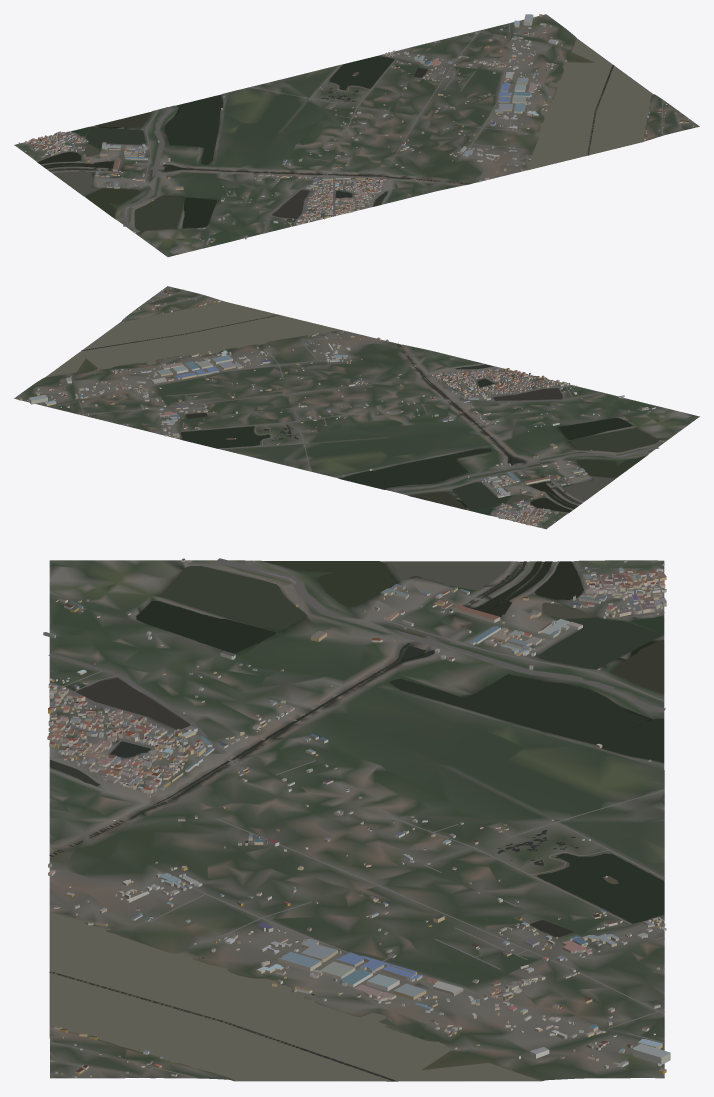
3 views of the same model, one above another, from view 1: azimuth 30°, elevation 25°; view 2: azimuth 150°, elevation 25°; view 3: azimuth 270°, elevation 25° (orthographic). The views are drawn at different scales.
Visible parts, largest first — view 1: ground, water, buildings, roads; view 2: ground, water, buildings, roads; view 3: ground, water, buildings, roads.
Boxes of the visible parts, left/top/right/bottom form: ground: left=14, top=14, right=699, bottom=256; water: left=37, top=38, right=652, bottom=230; buildings: left=18, top=14, right=693, bottom=245; roads: left=19, top=23, right=665, bottom=233; ground: left=14, top=286, right=699, bottom=529; water: left=46, top=301, right=658, bottom=515; buildings: left=18, top=287, right=666, bottom=527; roads: left=50, top=295, right=658, bottom=526; ground: left=49, top=560, right=664, bottom=1081; water: left=49, top=561, right=664, bottom=1081; buildings: left=43, top=558, right=670, bottom=1077; roads: left=48, top=558, right=665, bottom=1078.
Bounding box in the file's own units: 2815 × 28.86 × 1431.
